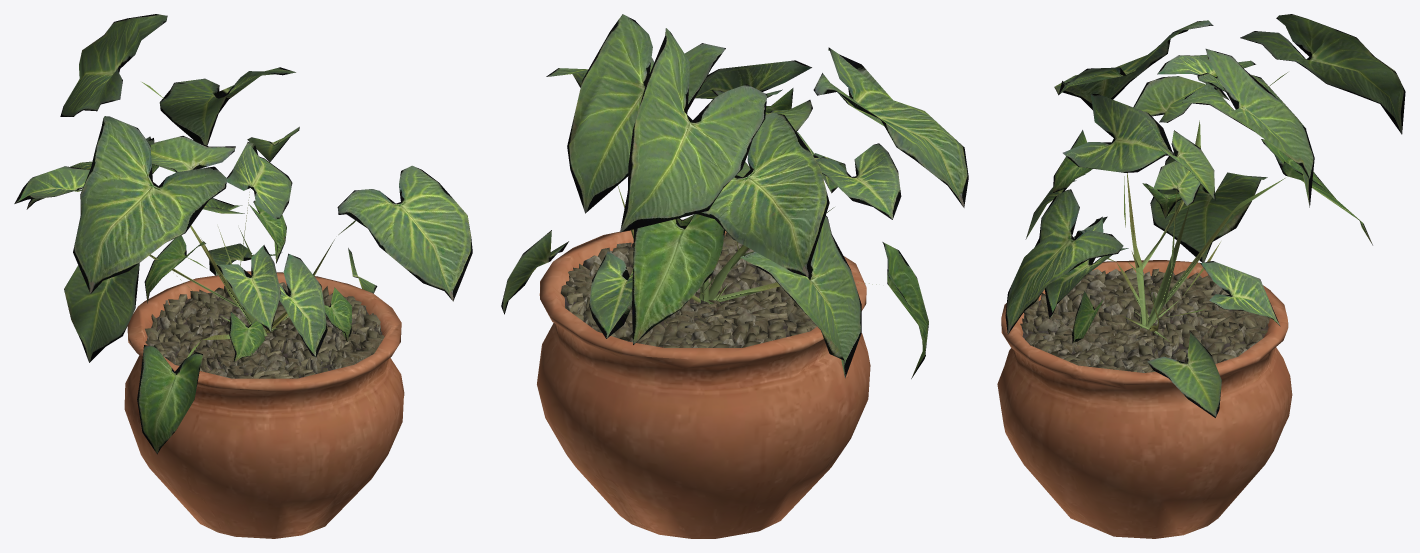
File: potted_plant_02.glb
3 views of the same model, side by side, from view 1: azimuth 30°, elevation 25°; view 2: azimuth 150°, elevation 25°; view 3: azimuth 270°, elevation 25° (orthographic). The views are drawn at different scales.
Visible parts, largest first — view 1: potted_plant_02_leaves, potted_plant_02_pot; view 2: potted_plant_02_leaves, potted_plant_02_pot; view 3: potted_plant_02_pot, potted_plant_02_leaves.
Part boxes in pixels (x1=…): potted_plant_02_leaves: x1=14, y1=14, x2=472, y2=454; potted_plant_02_pot: x1=124, y1=271, x2=404, y2=538; potted_plant_02_leaves: x1=501, y1=14, x2=968, y2=378; potted_plant_02_pot: x1=537, y1=219, x2=870, y2=538; potted_plant_02_pot: x1=997, y1=260, x2=1292, y2=538; potted_plant_02_leaves: x1=1005, y1=14, x2=1405, y2=417.
Size of the model in its own units: 0.7009 by 0.8395 by 0.6545.
Materials: 2 (2 with a texture image).
